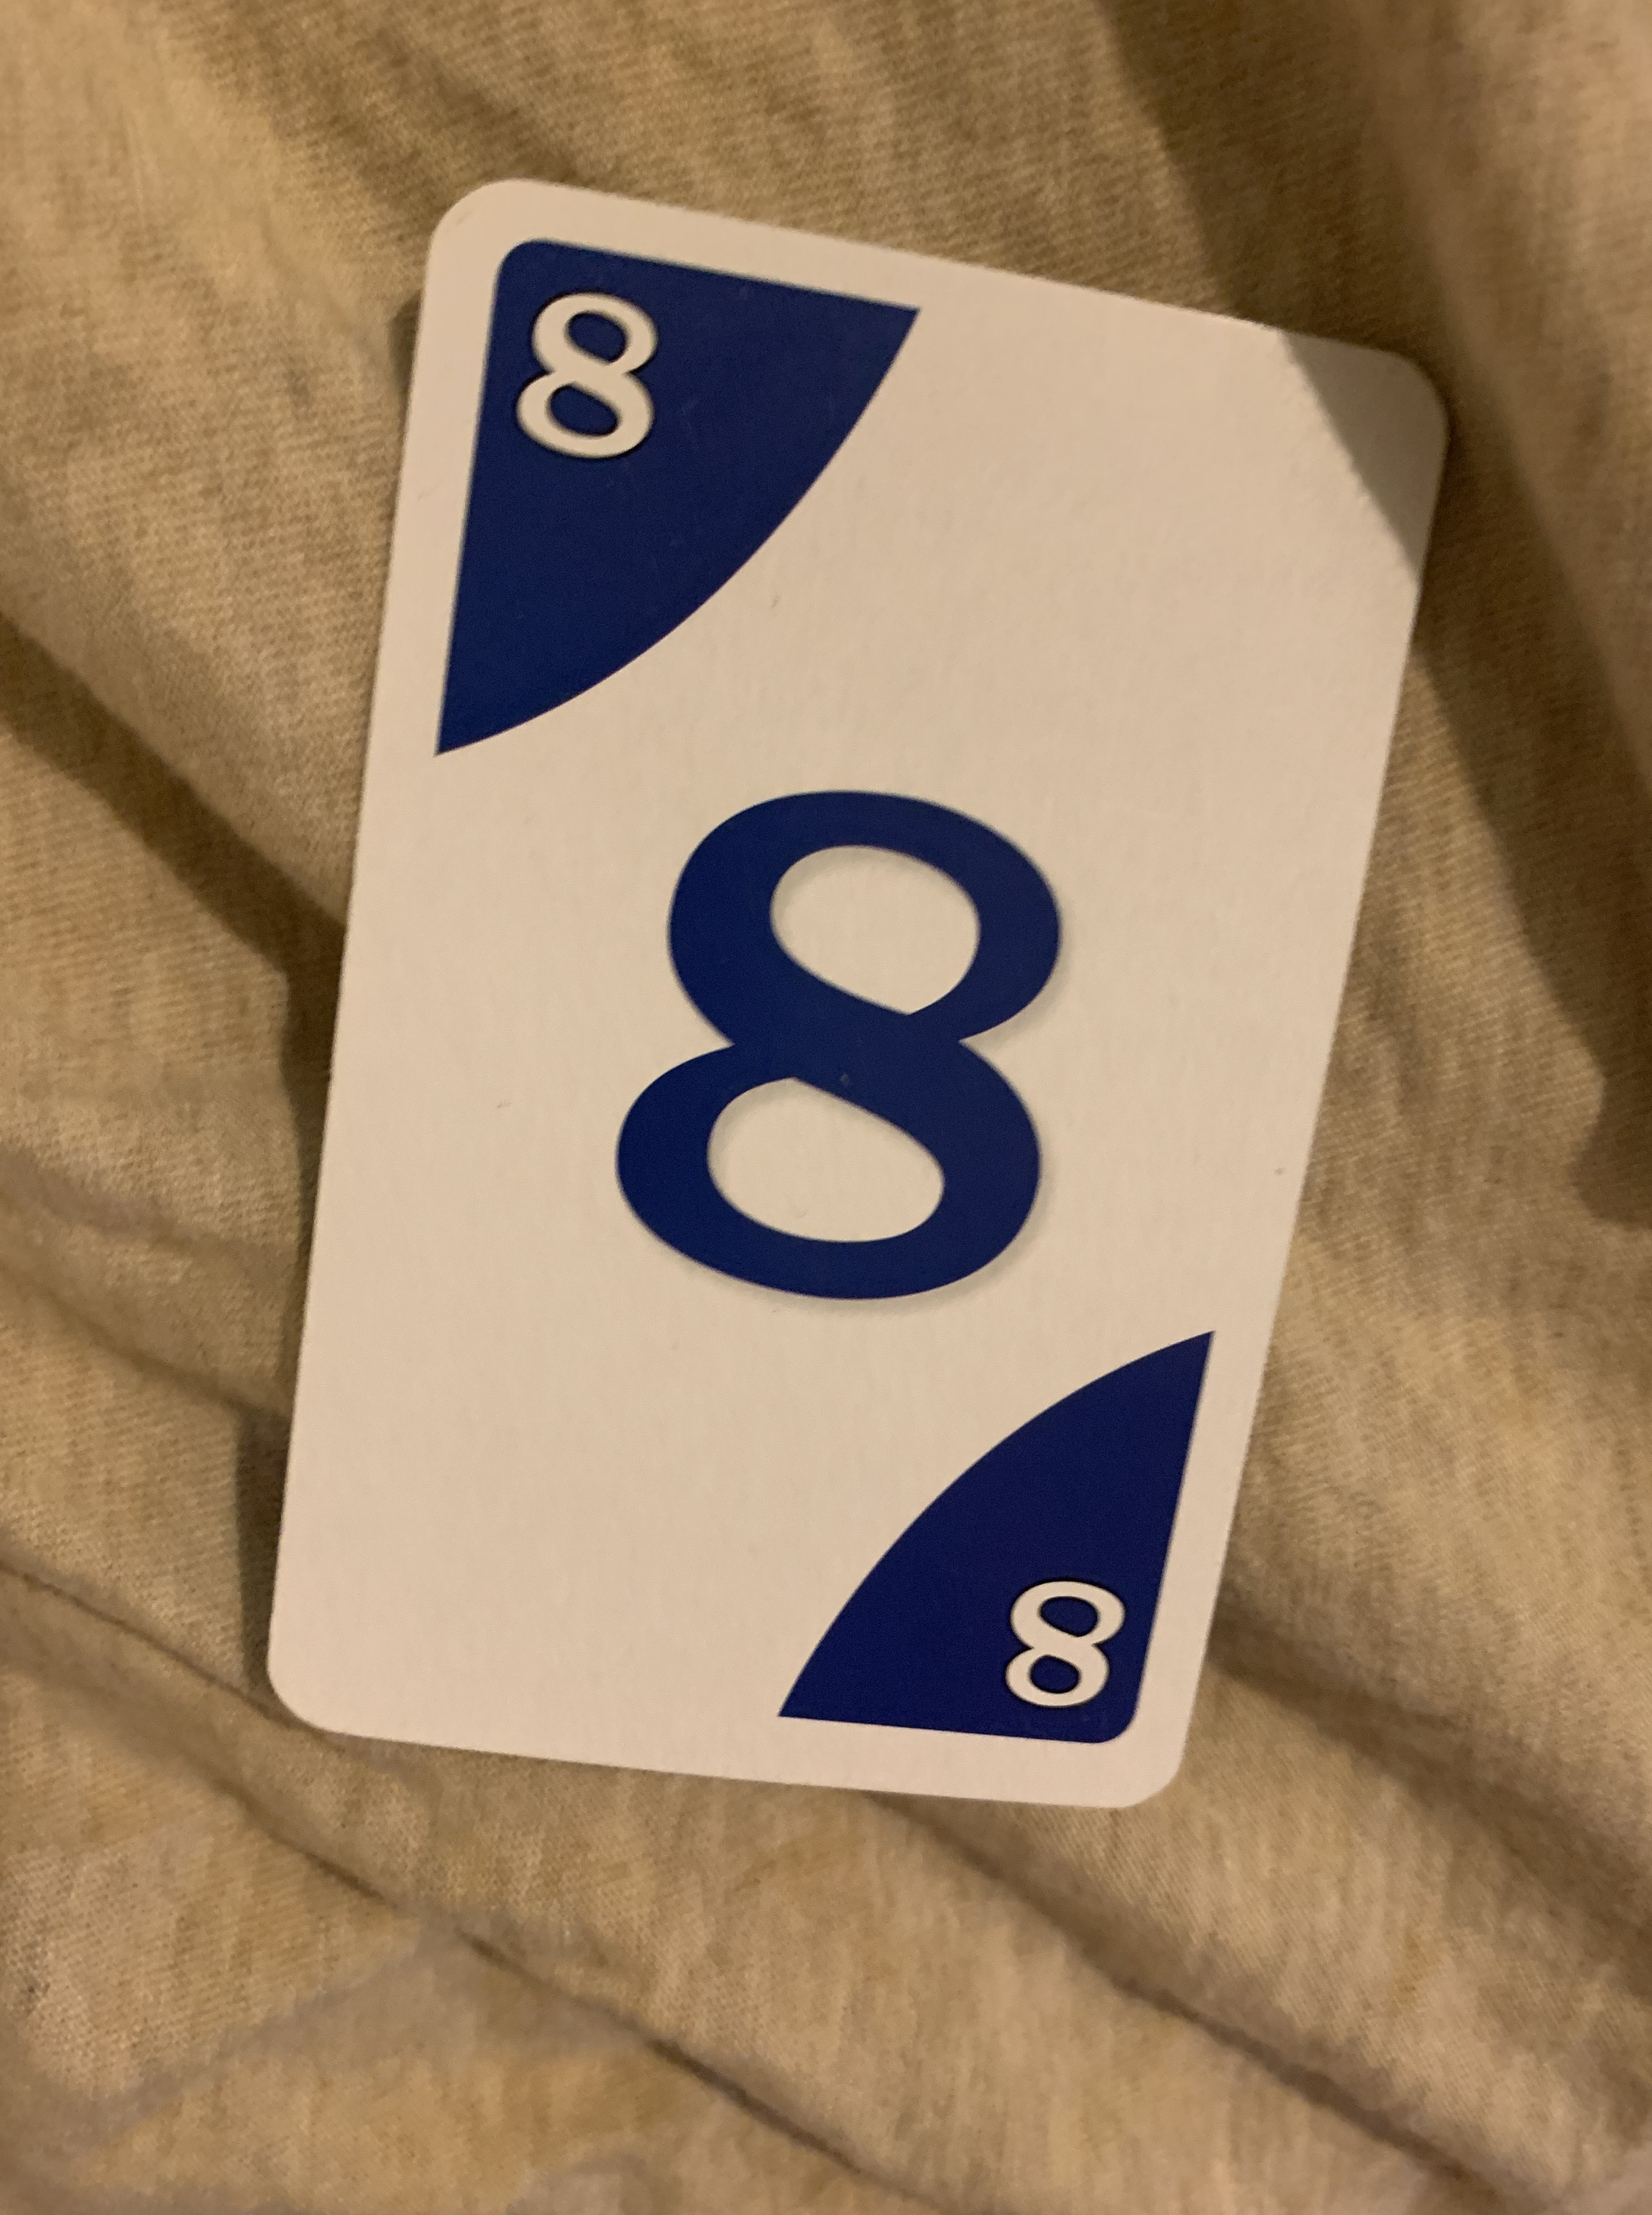eight: (245, 167, 1472, 1830)
